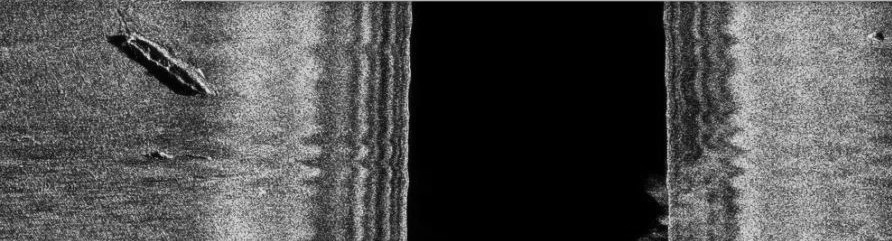ship: (121, 26, 219, 96)
